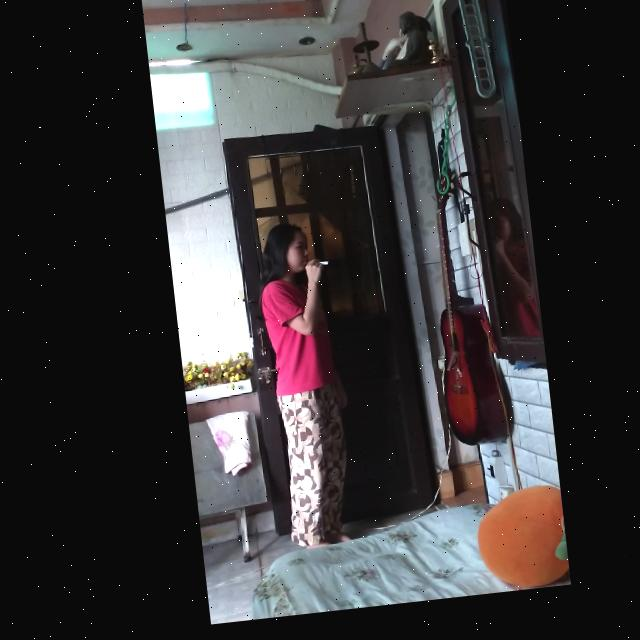cigarette: (312, 268, 322, 271)
